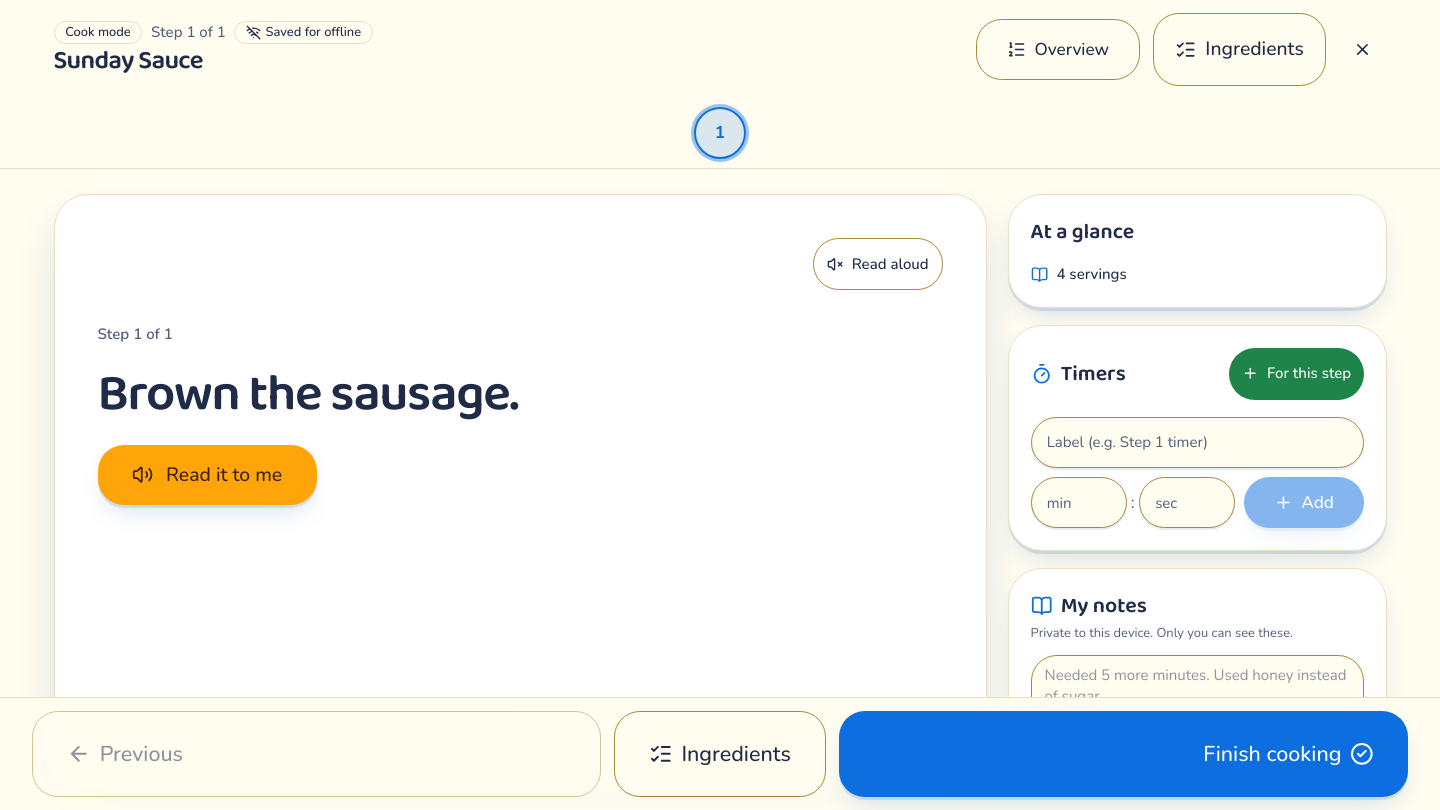
Scenario: Cook Mode 'Read it to me' narration (issue #411) › reads the current step aloud and toggles to a stop control
The width and height of the screenshot is (1440, 810).
Click the button "Read it to me": (207, 475) [98,445,317,505]
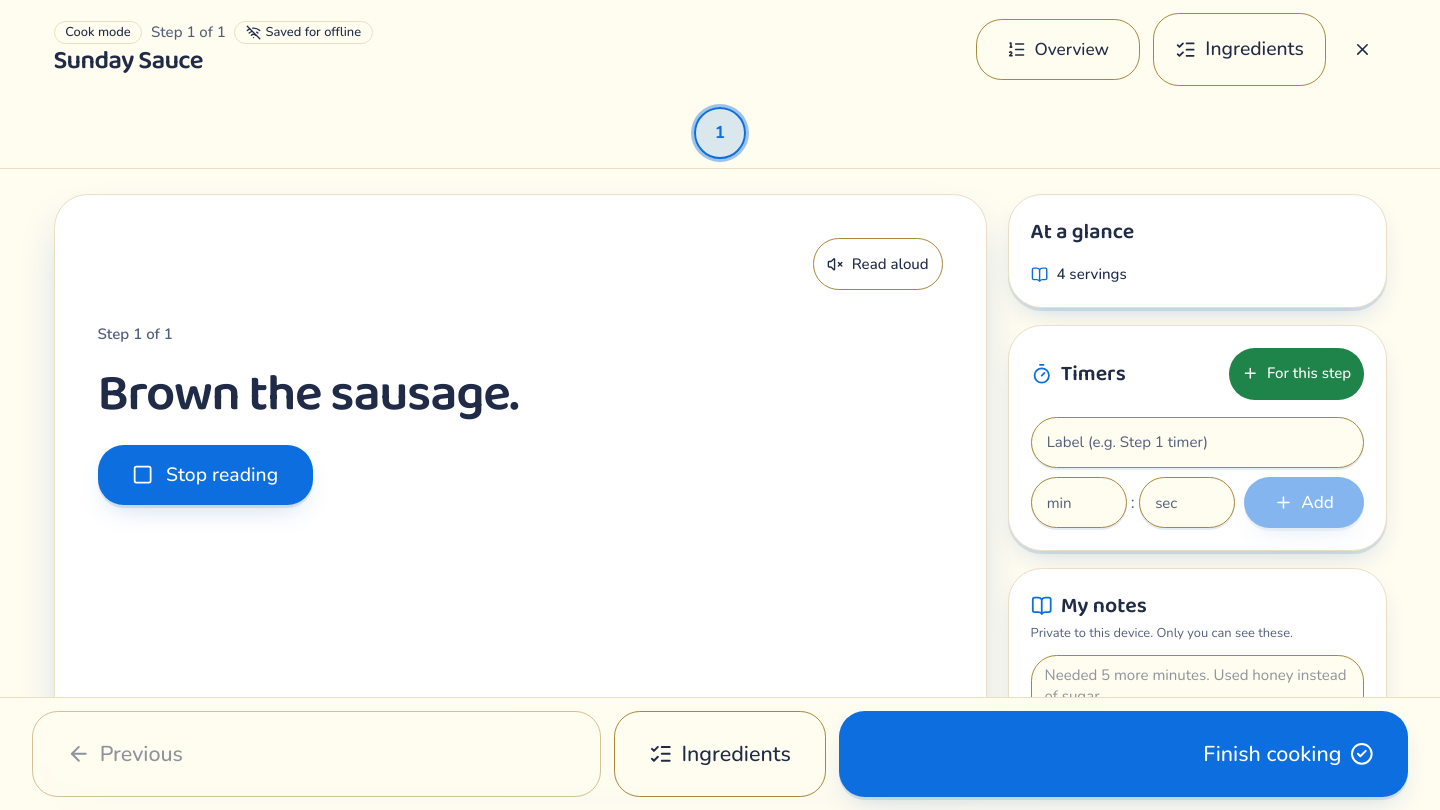
Check: the heading "Brown the sausage." is shown, box [98,353,518,436]
Check: the button "Stop reading" is pressed
Check: the button "Stop reading" has attribute data-variant="default"
Click the button "Stop reading": (205, 475) [98,445,312,505]
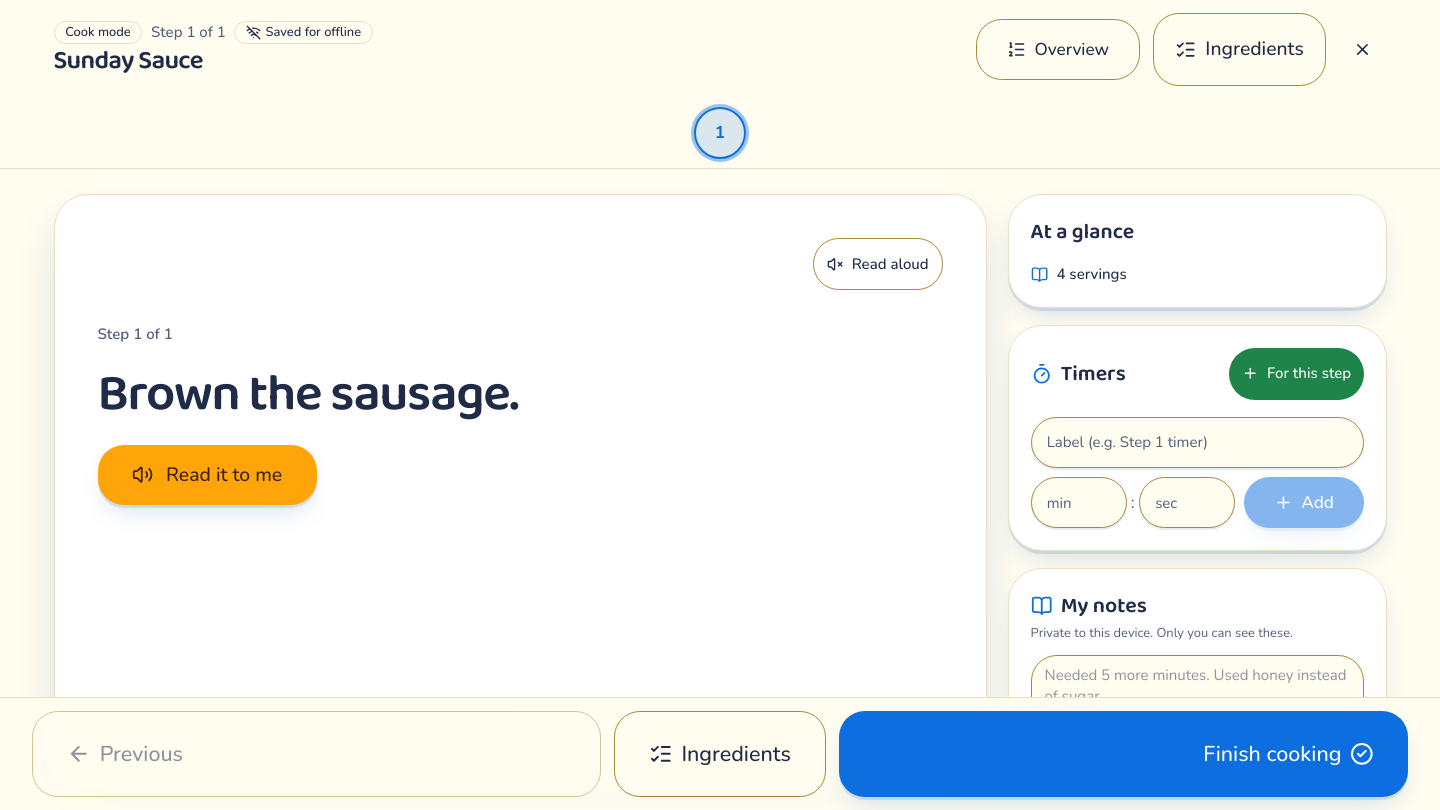
Check: the button "Read it to me" is shown, box [98,445,317,505]
